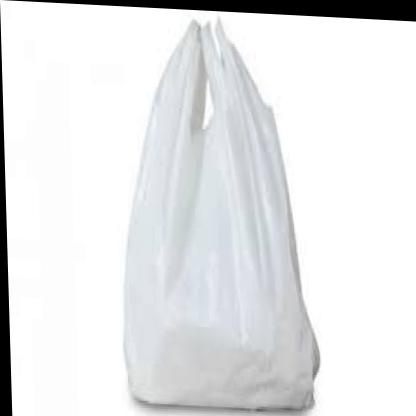trash: (124, 20, 318, 408)
